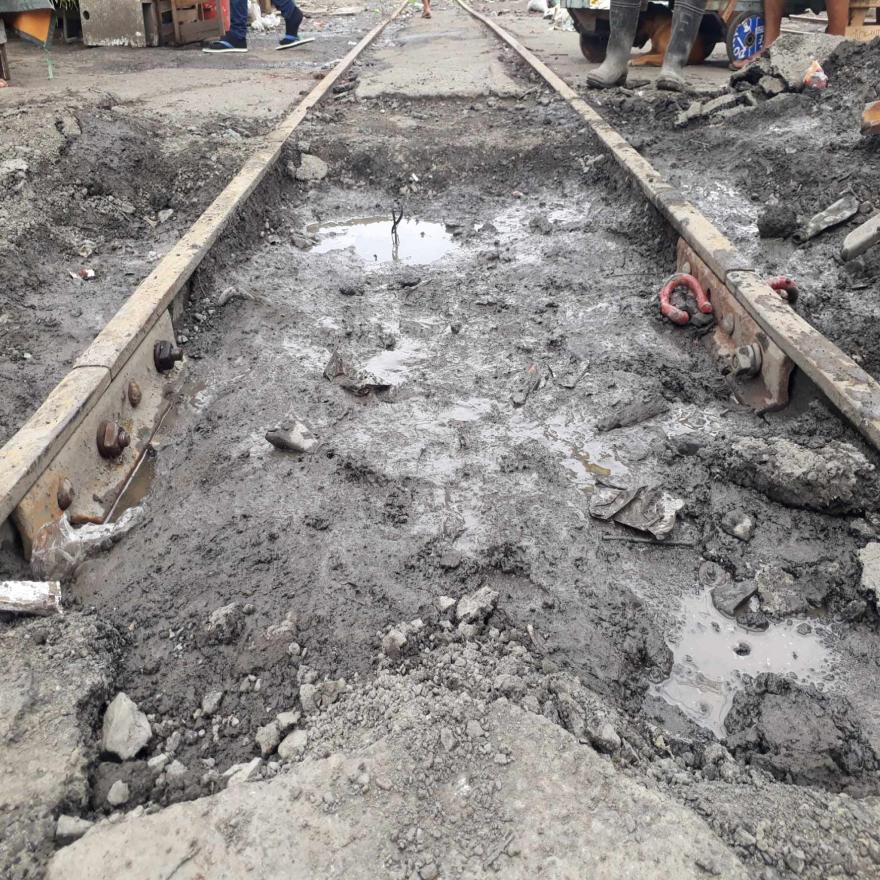railway-gap: (699, 227, 772, 310), (55, 323, 122, 405)
